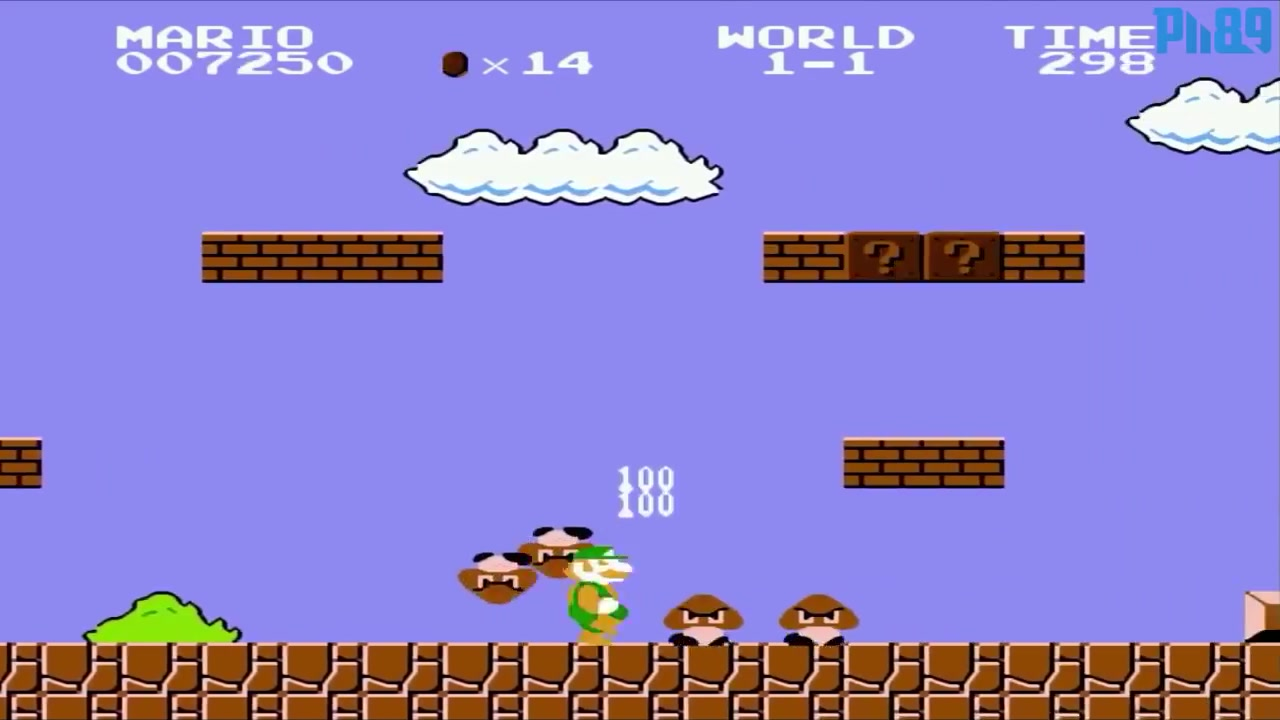mario: (544, 542, 645, 643)
